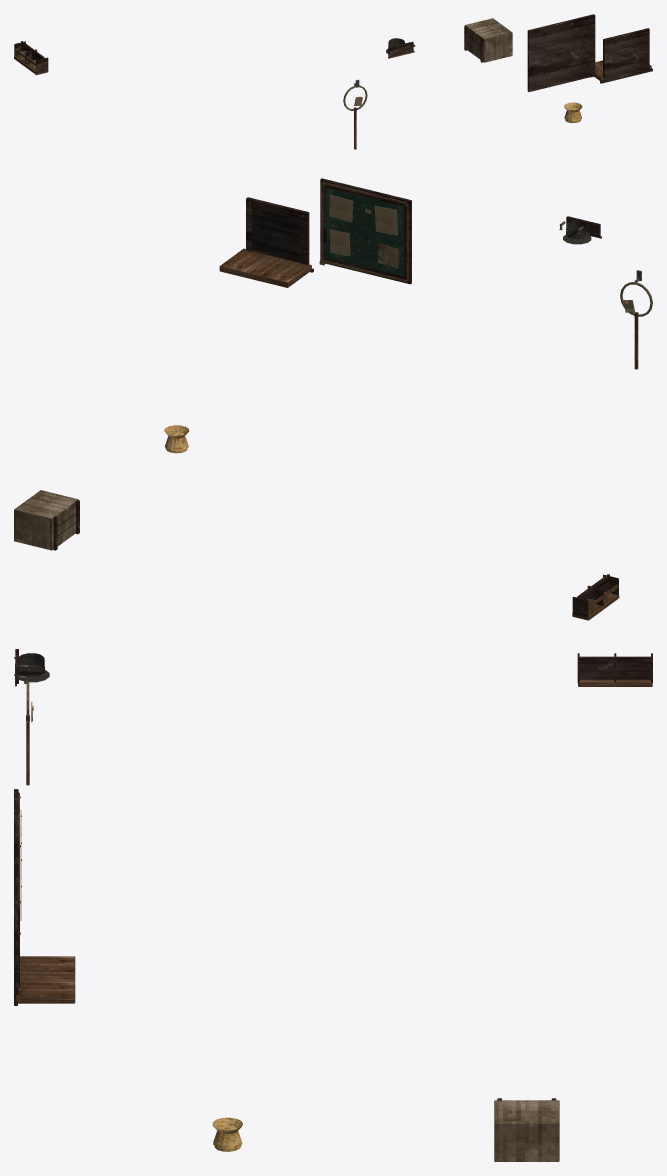
File: wall_props_static.glb
3 views of the same model, one above another, from view 1: azimuth 30°, elevation 25°; view 2: azimuth 150°, elevation 25°; view 3: azimuth 270°, elevation 25° (orthographic). The views are drawn at different scales.
Parts seen in each view (by area): view 1: wall_props_static; view 2: wall_props_static; view 3: wall_props_static.
Boxes of the visible parts, box(x1,y1,x2,y2) form: wall_props_static: box(14, 14, 652, 149); wall_props_static: box(14, 178, 652, 620); wall_props_static: box(14, 649, 652, 1161).
Size of the model in its own units: 5.55 by 2.11 by 4.11.
Materials: 12 (12 with a texture image).
